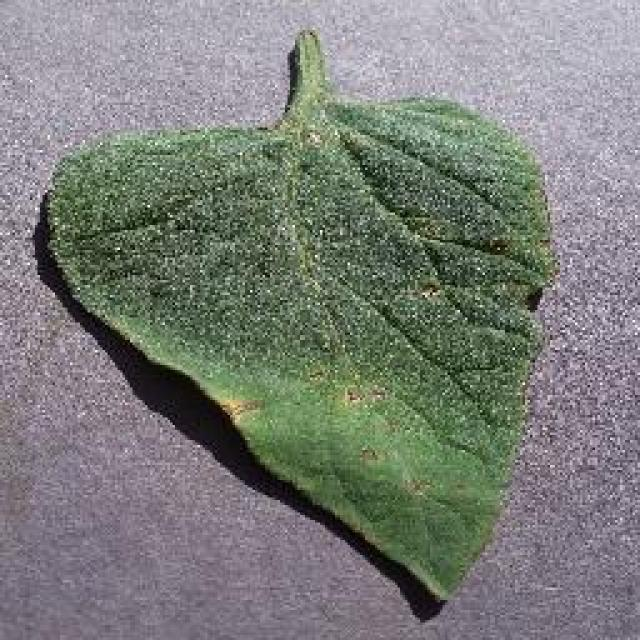Tomato___Target_Spot: (48, 30, 555, 598)
